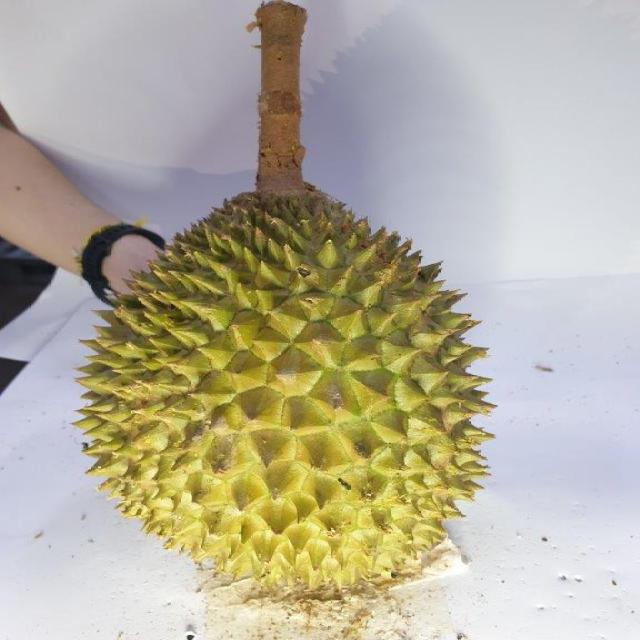immature: (72, 181, 512, 593)
